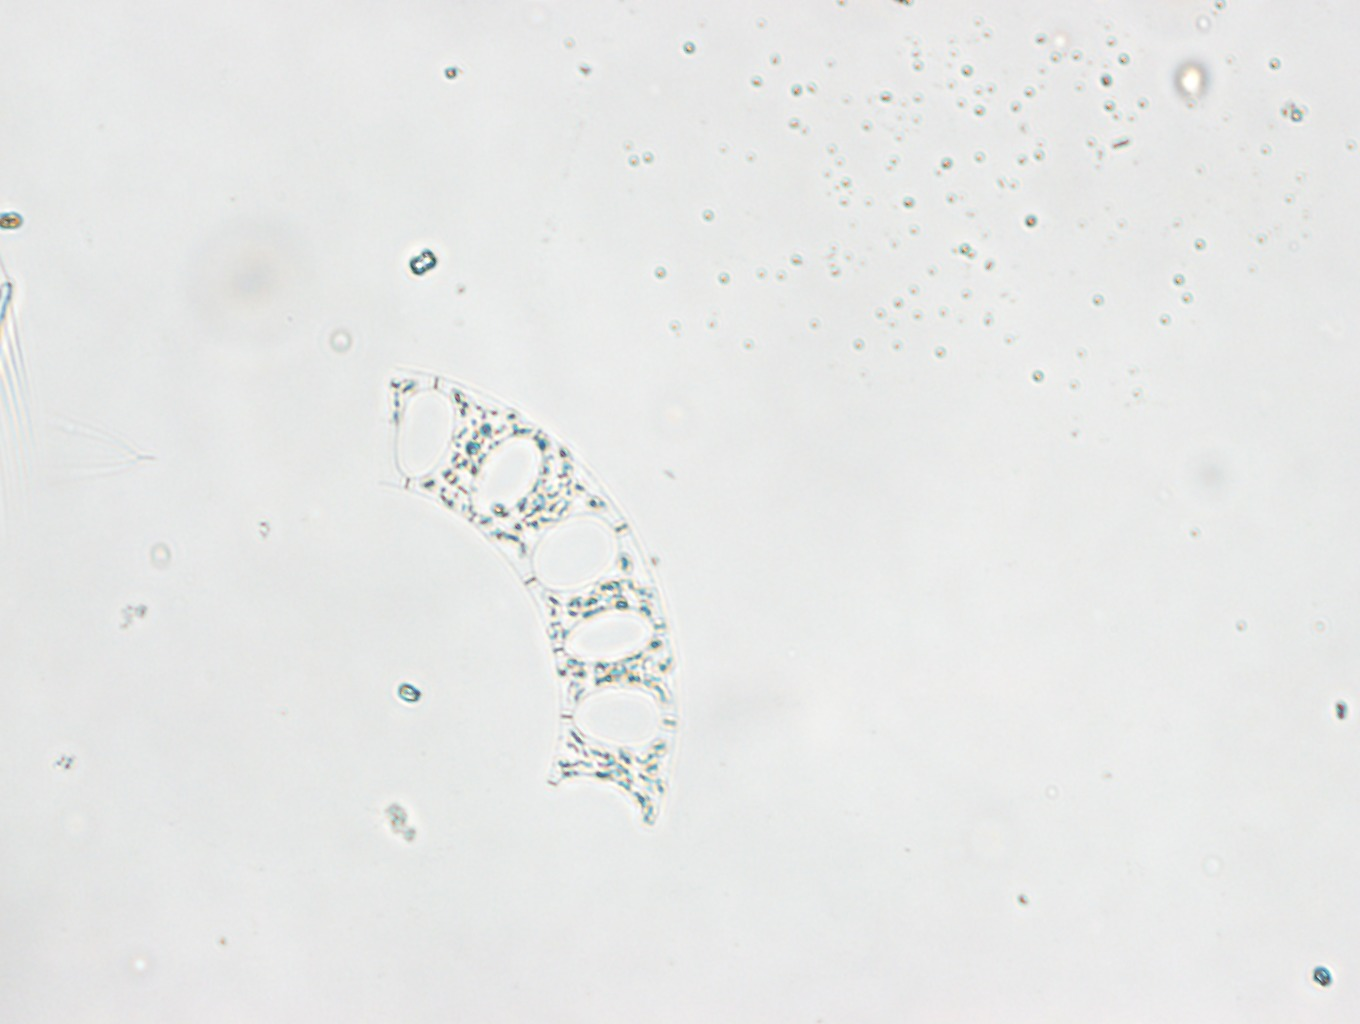eucampia: (380, 366, 675, 831)
